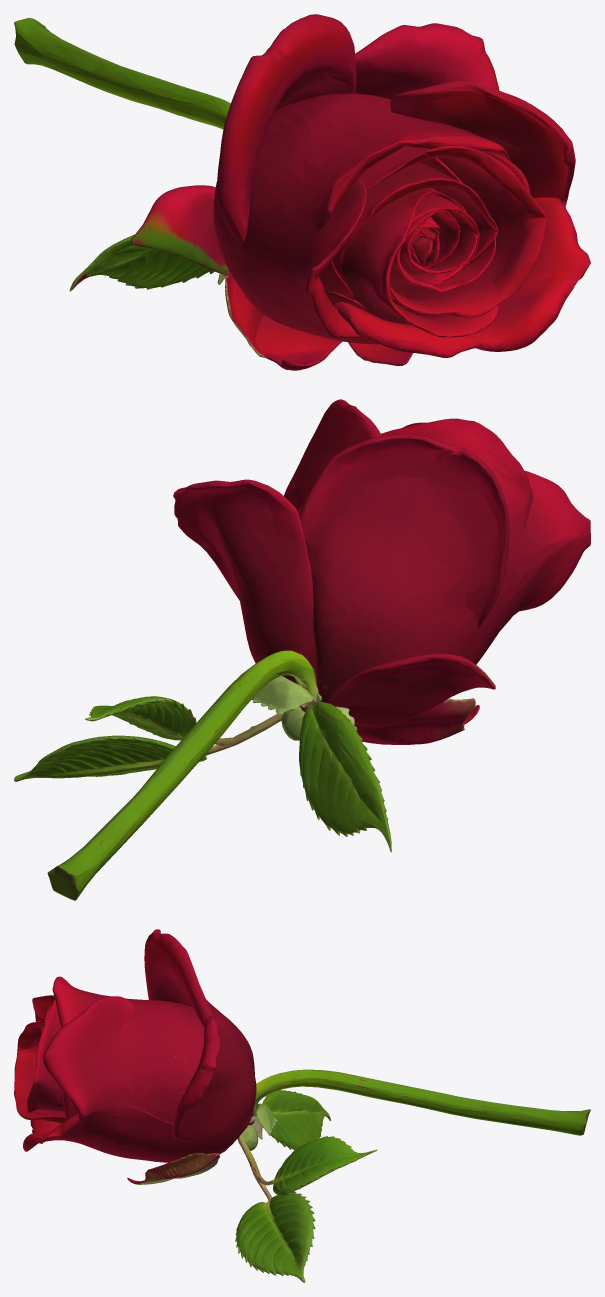
File: rose.glb
The picture shows the model from 3 angles, top to bottom: view 1: azimuth 30°, elevation 25°; view 2: azimuth 150°, elevation 25°; view 3: azimuth 270°, elevation 25°; orthographic projection. The views are drawn at different scales.
Size of the model in its own units: 1.12 by 0.9091 by 1.91.
Materials: 1 (1 with a texture image).
